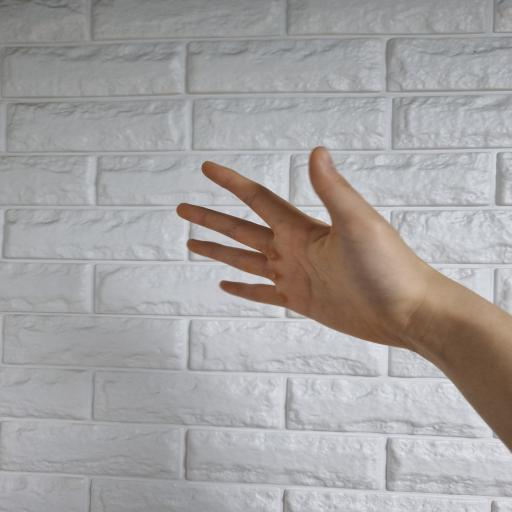Paper: (175, 144, 512, 453)
